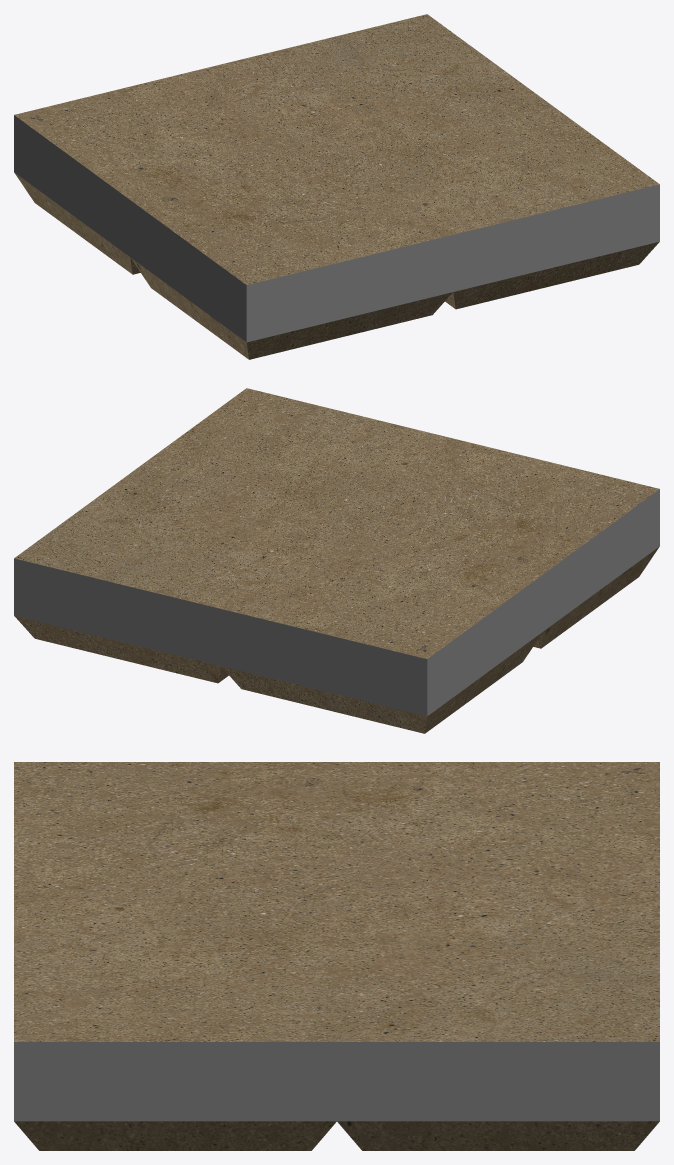
The model's file is Platform_04.fbx.
3 renders of one model, top to bottom at view 1: azimuth 30°, elevation 25°; view 2: azimuth 150°, elevation 25°; view 3: azimuth 270°, elevation 25°, orthographic. The views are drawn at different scales.
Parts seen in each view (by area): view 1: Platdorm_Red_003; view 2: Platdorm_Red_003; view 3: Platdorm_Red_003.
Part boxes in pixels (left/top/right/bottom): Platdorm_Red_003: left=14, top=14, right=659, bottom=359; Platdorm_Red_003: left=14, top=388, right=659, bottom=733; Platdorm_Red_003: left=14, top=762, right=659, bottom=1150.
Bounding box in the file's own units: 12.06 × 2.35 × 11.76.
